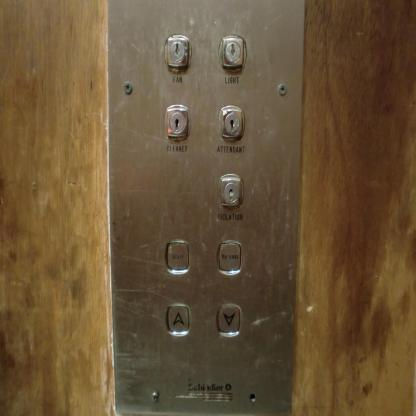down: (215, 302, 243, 338)
keyhole: (164, 34, 192, 73), (217, 104, 245, 142), (164, 104, 191, 142), (219, 35, 246, 72), (218, 173, 244, 209)
text_bypass: (216, 240, 243, 275)
text_start: (165, 239, 191, 275)
up: (164, 302, 192, 338)
